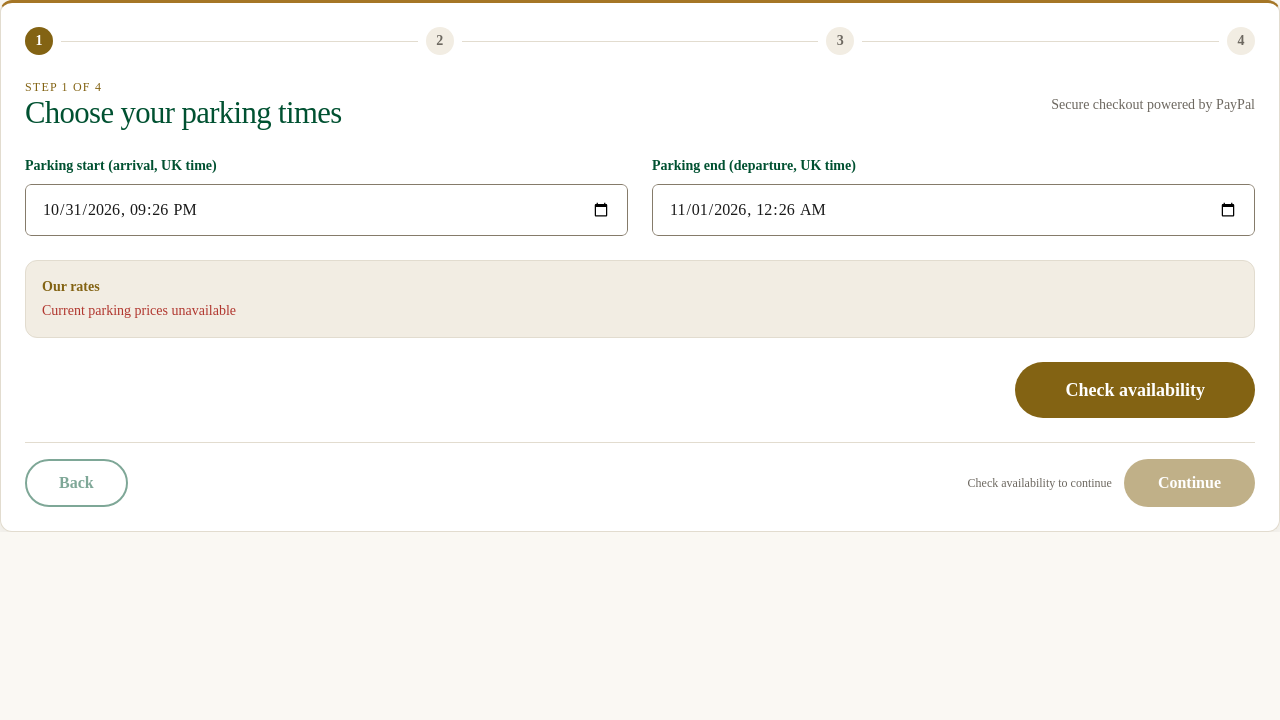
Test: keeps the visitor on dates when spaces exist but current prices are unavailable
This screenshot has width=1280, height=720.
Expected: the text "Current parking prices unavailable" is shown, top-left (42, 303), bottom-right (236, 318)
Click the button "Check availability". click: (1135, 390)
box: top-left (1016, 362), bottom-right (1255, 418)
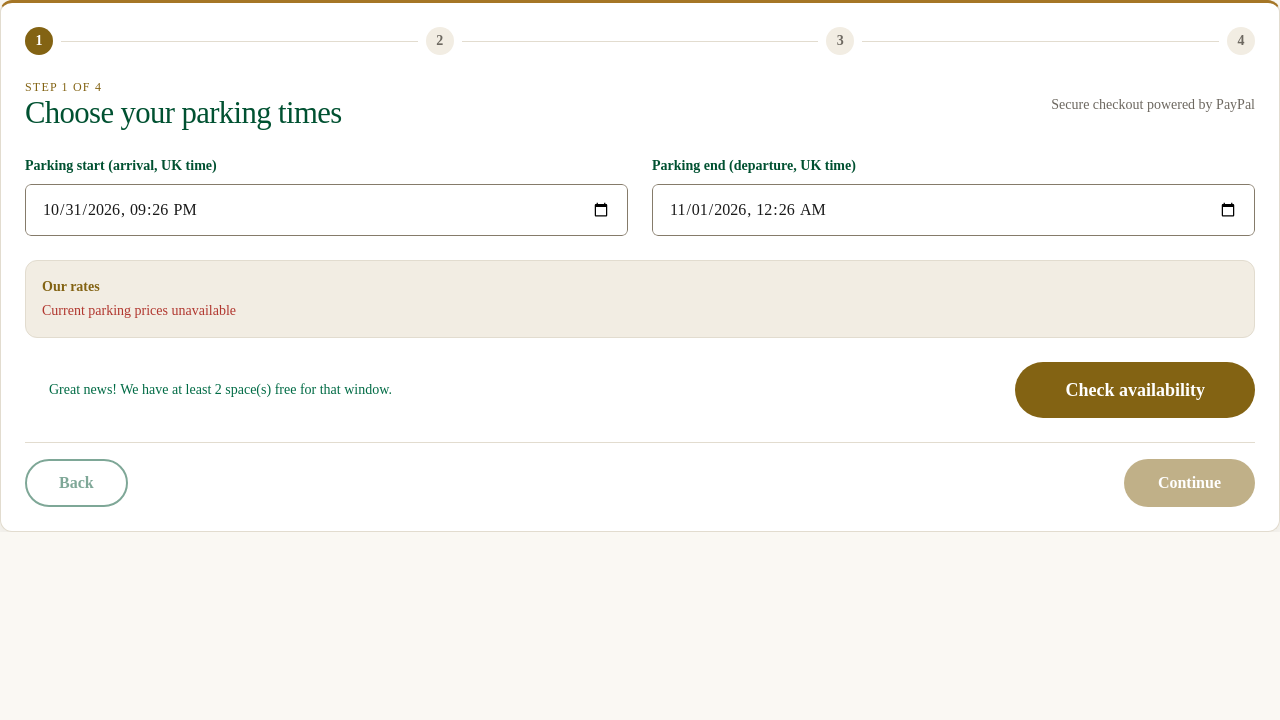
Expected: the button "Continue" is disabled, top-left (1124, 459), bottom-right (1255, 507)
Now the text "Great news! We have at least 2 space(s) free for that window." is shown, box top-left (25, 380), bottom-right (392, 400)
